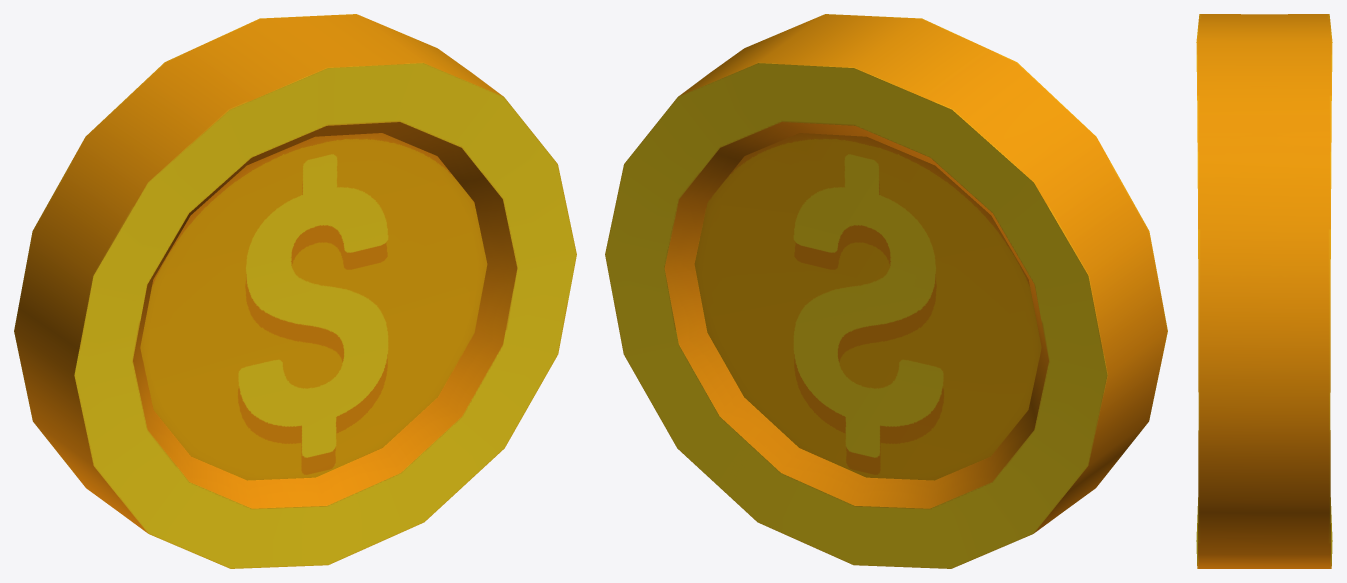
Rendered from Coin.fbx.
3 views of the same model, side by side, from view 1: azimuth 30°, elevation 25°; view 2: azimuth 150°, elevation 25°; view 3: azimuth 270°, elevation 25° (orthographic).
Parts seen in each view (by area): view 1: coin; view 2: coin; view 3: coin.
Part boxes in pixels (<box>): coin: <box>14,14,576,568</box>; coin: <box>605,14,1167,568</box>; coin: <box>1196,14,1332,568</box>.
Size of the model in its own units: 0.954 by 0.906 by 0.224.
